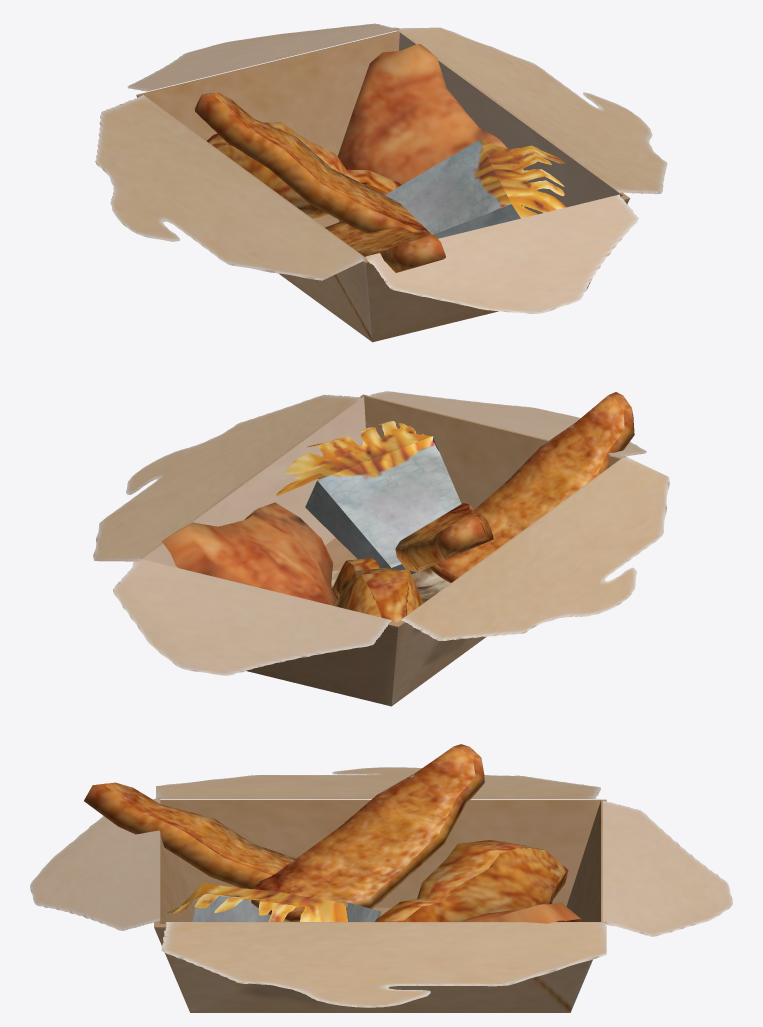
The model's file is combo_2.FBX.
3 renders of one model, top to bottom at view 1: azimuth 30°, elevation 25°; view 2: azimuth 150°, elevation 25°; view 3: azimuth 270°, elevation 25°, orthographic.
Parts seen in each view (by area): view 1: takeaway_box, fried_chicken_breast001, fries001, chicken_finger002, chicken_leg001, chicken_finger001; view 2: takeaway_box, fries001, chicken_finger001, fried_chicken_breast001, chicken_leg001, chicken_finger002, greasy_napkin001; view 3: takeaway_box, chicken_finger002, chicken_leg001, chicken_finger001, fries001, fried_chicken_breast001.
Boxes of the visible parts, bbox=[...] form: takeaway_box: bbox=[95, 23, 667, 342]; fried_chicken_breast001: bbox=[337, 44, 509, 210]; fries001: bbox=[385, 140, 566, 238]; chicken_finger002: bbox=[194, 92, 431, 235]; chicken_leg001: bbox=[207, 122, 401, 218]; chicken_finger001: bbox=[325, 221, 445, 274]; takeaway_box: bbox=[93, 391, 669, 706]; fries001: bbox=[276, 421, 461, 574]; chicken_finger001: bbox=[429, 392, 634, 583]; fried_chicken_breast001: bbox=[161, 502, 336, 605]; chicken_leg001: bbox=[332, 557, 422, 622]; chicken_finger002: bbox=[395, 503, 493, 572]; greasy_napkin001: bbox=[331, 568, 450, 605]; takeaway_box: bbox=[30, 767, 732, 1012]; chicken_finger002: bbox=[251, 744, 484, 921]; chicken_leg001: bbox=[375, 840, 568, 921]; chicken_finger001: bbox=[84, 782, 295, 888]; fries001: bbox=[167, 882, 381, 921]; fried_chicken_breast001: bbox=[462, 902, 581, 923].
Bounding box in the file's own units: 38.24 × 11.09 × 48.71.
